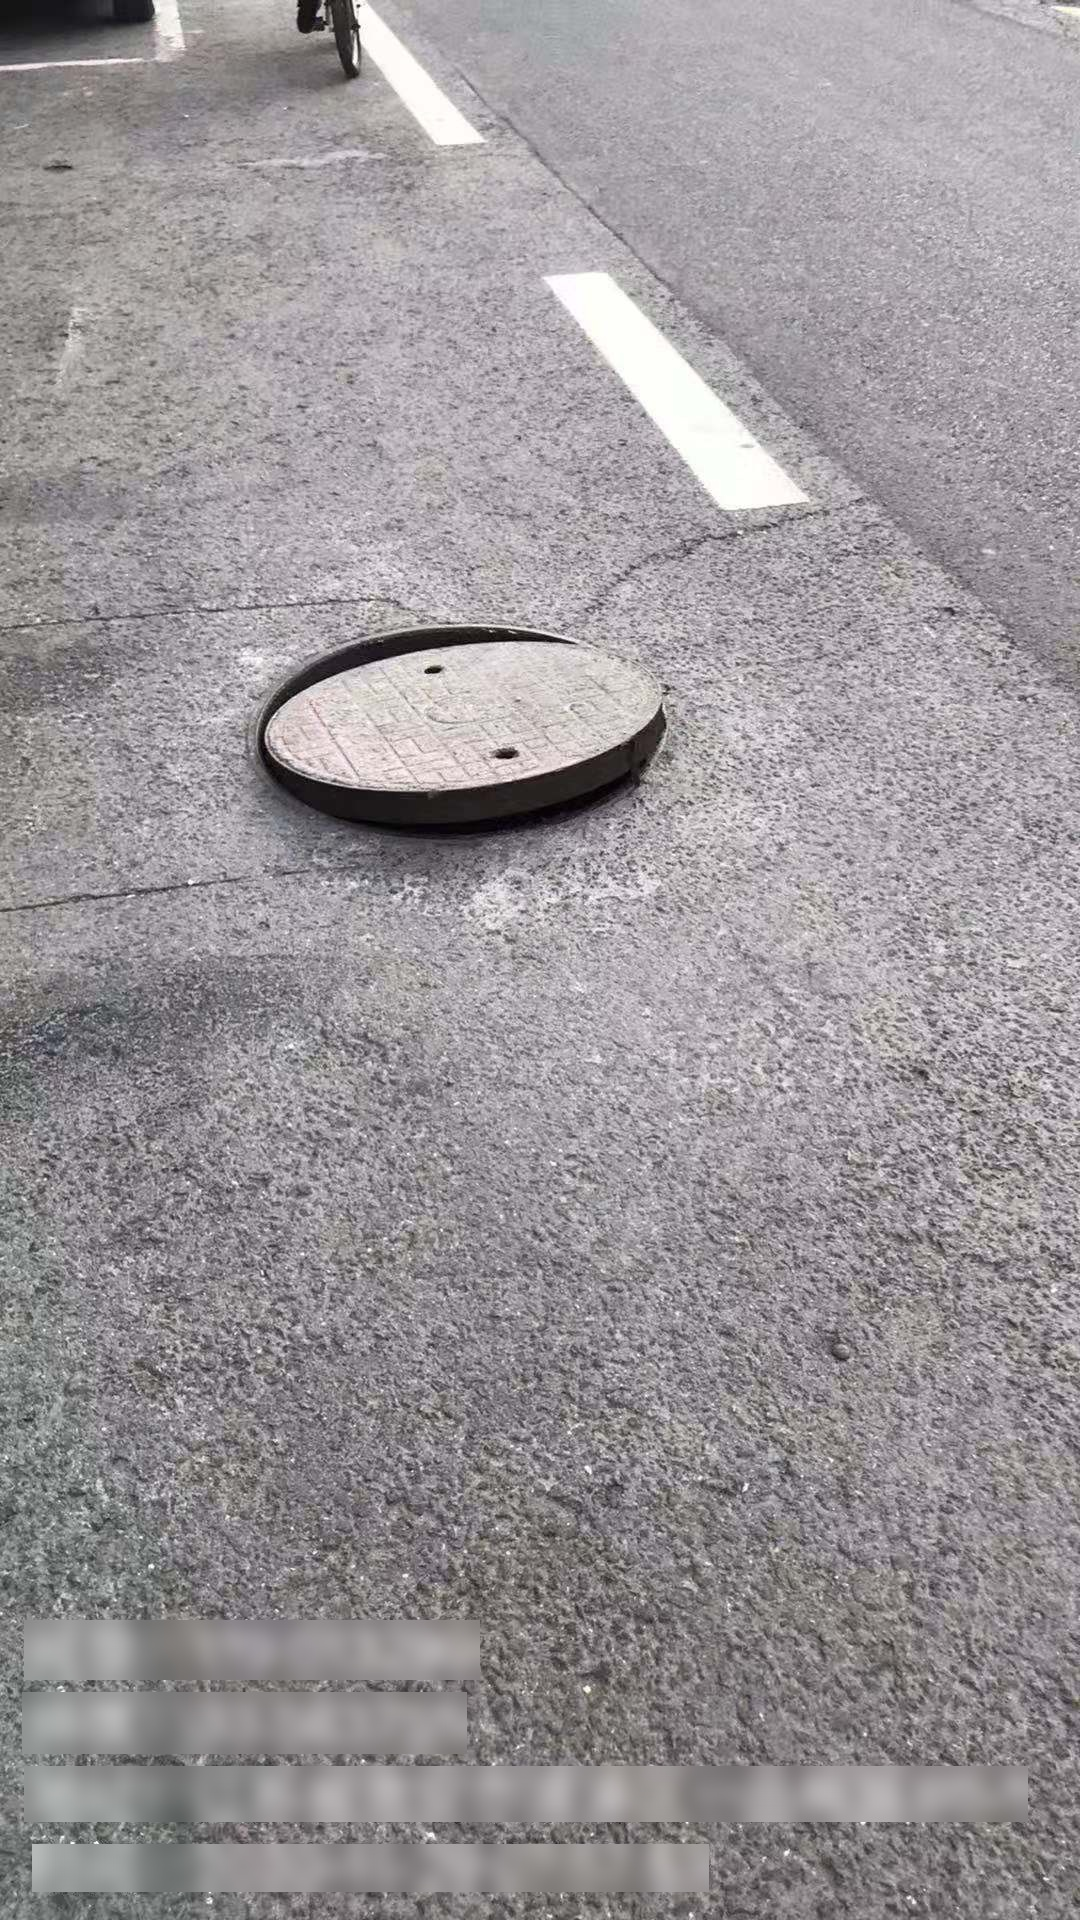uncovered: (245, 615, 674, 840)
